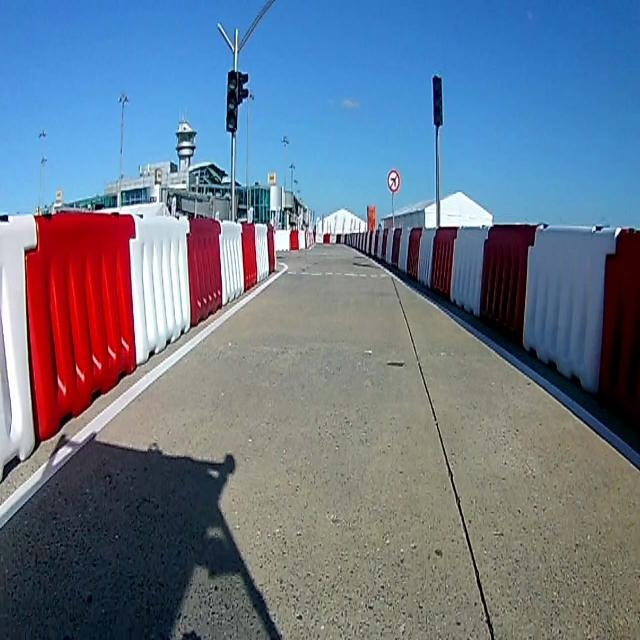soladonulmez: (386, 168, 401, 194)
